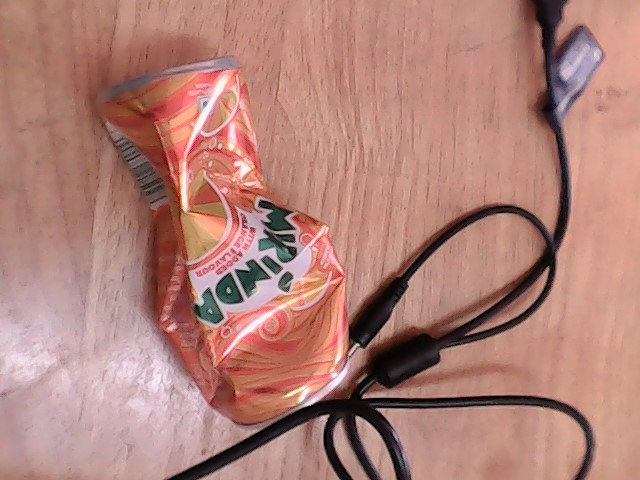Metal: (91, 48, 336, 430)
